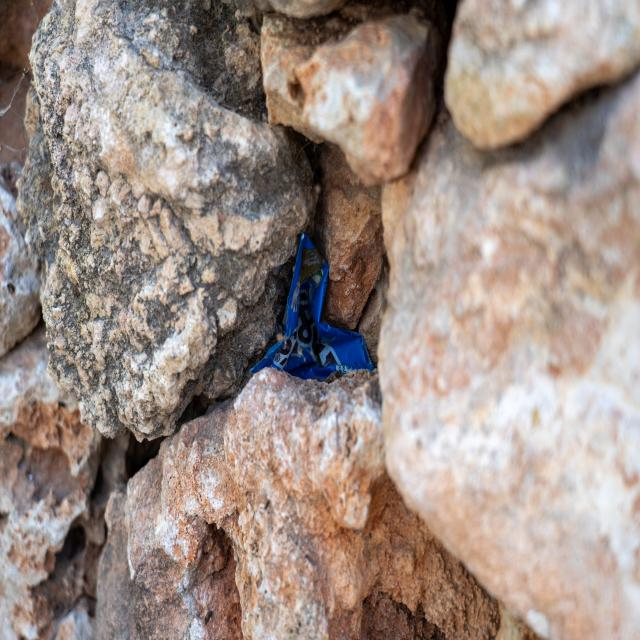Plastic bag - wrapper: (249, 231, 374, 383)
